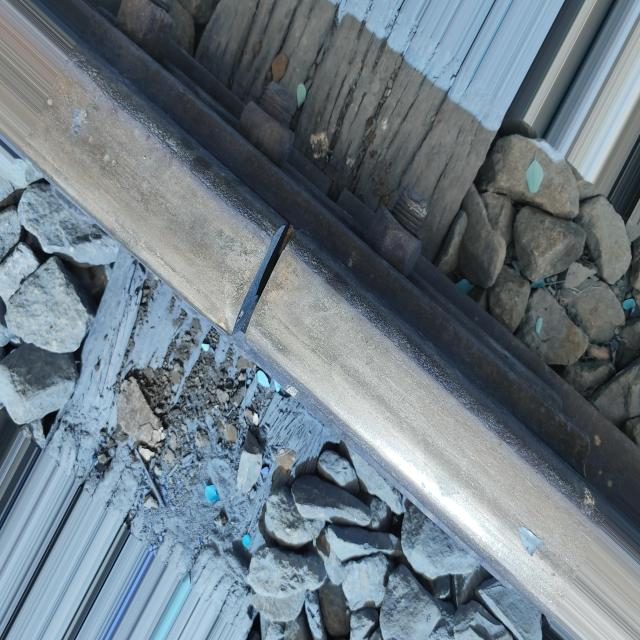crack: (212, 165, 310, 366)
